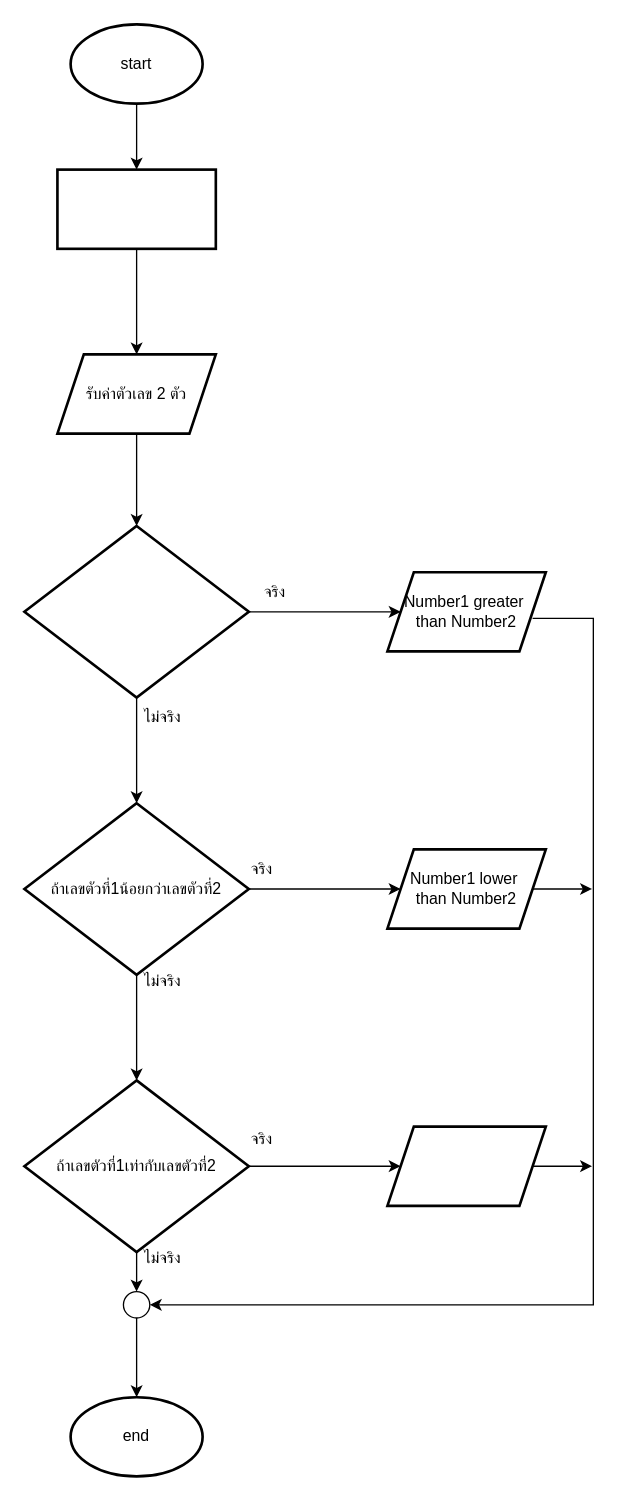
The diagram is 627 pixels wide and 1500 high, and some of its shapes have lost their labels. Each missing label, with the centre of its shape:
Number1 equal Number2: point 465,1165
กำหนดตัวแปรรับค่าตัวเลข 2 ตัว num1 num2: point 135,208
ถ้าเลขตัวที่1มากกว่าเลขตัวที่2: point 135,611
